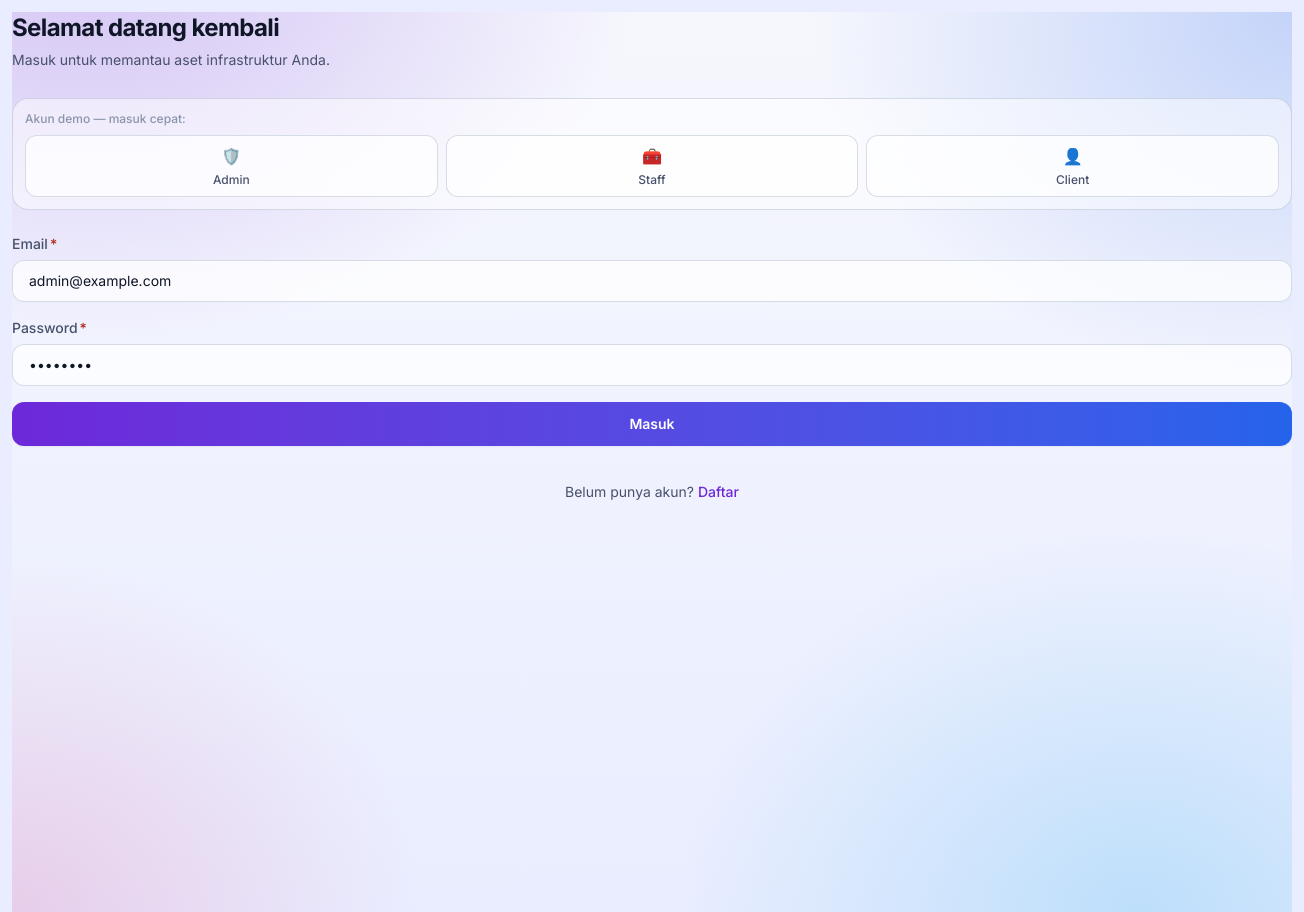
Test: alur login keyboard-only (audit #116) › menampilkan error 422 server di field yang bersangkutan
Click the button "Masuk" at (652, 424), box [12,402,1292,446]
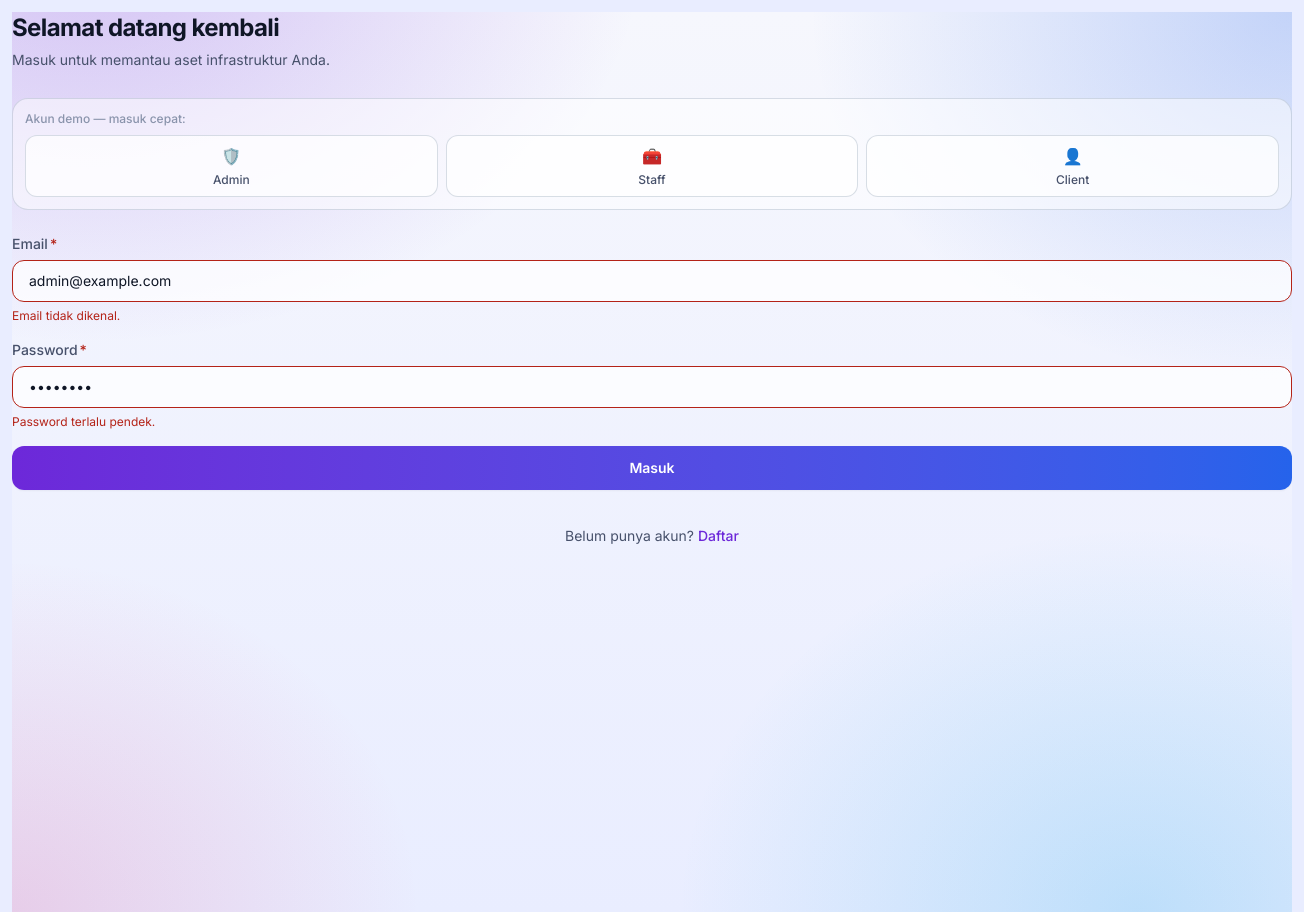
Expected: the message "Email tidak dikenal." is shown, [12,308,120,323]
Expected: the message "Password terlalu pendek." is shown, [12,414,155,429]
Expected: the number of messages is 2, [12,308,120,323]; [12,414,155,429]
